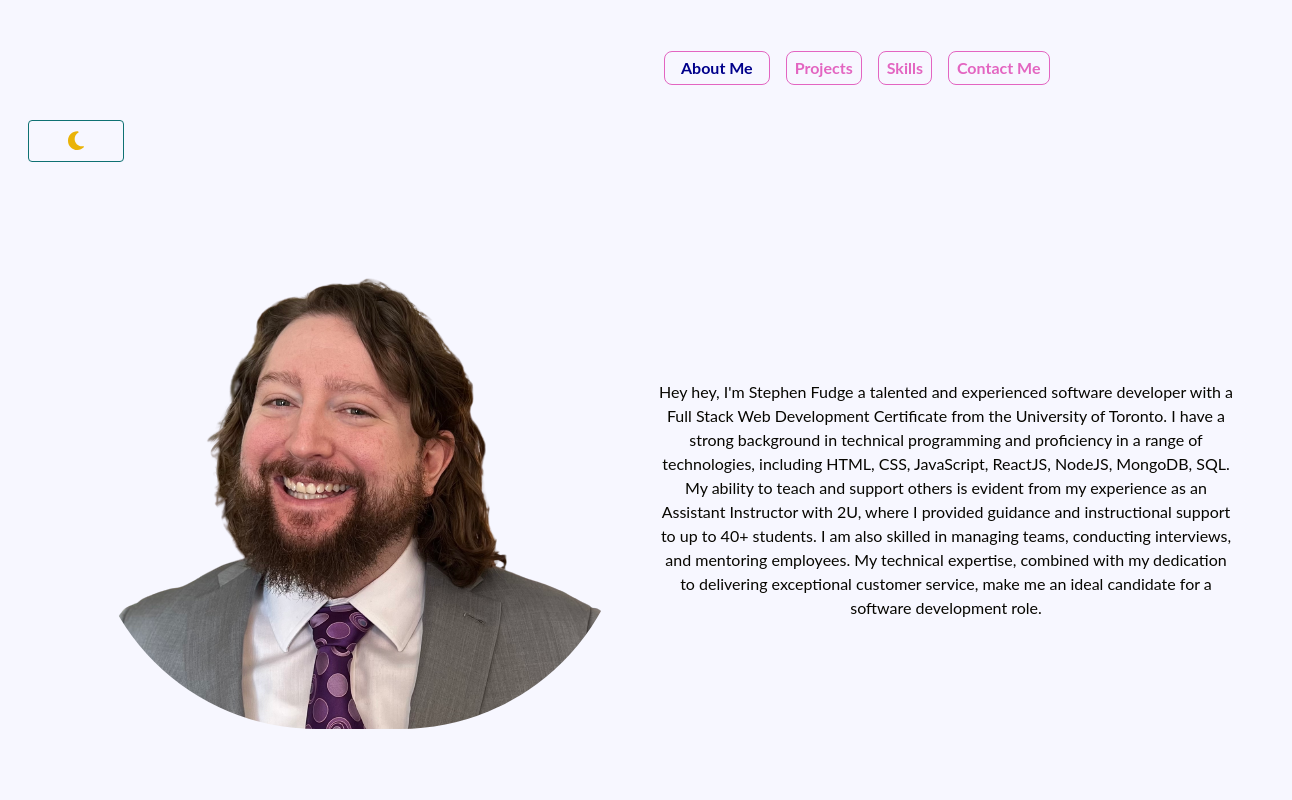
Test: App component › renders the skills section when clicked
# Find the skills button and click it
Click the button with test id "skills-button-large" at (905, 68), box [878,51,932,85]
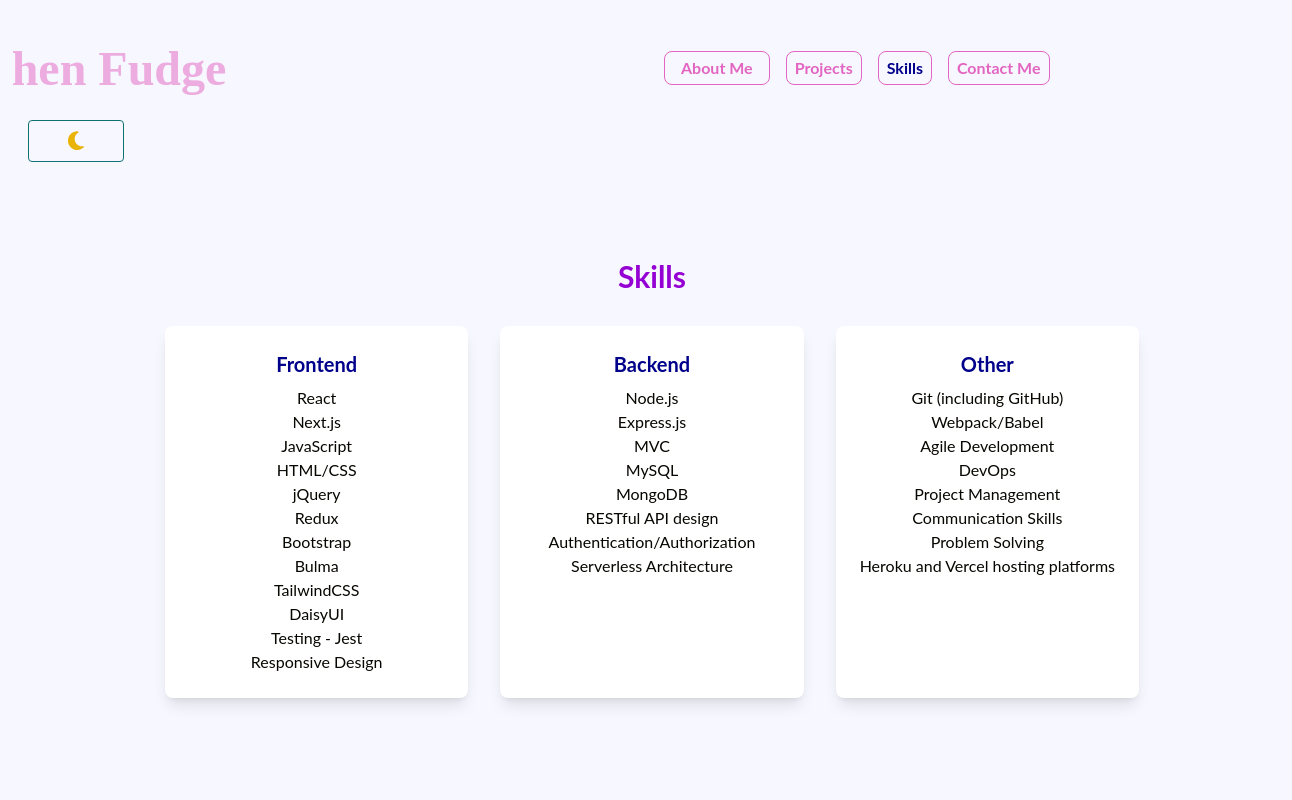
expect the element with test id "skills-section" is shown: met, box [165,258,1139,698]
